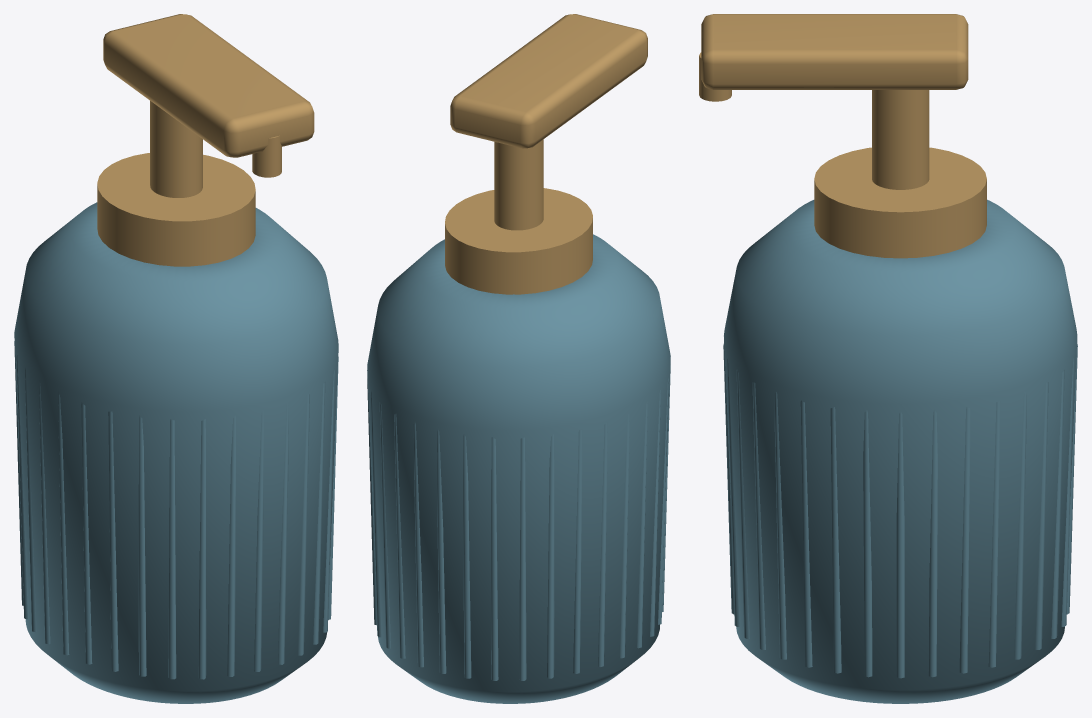
Rendered from bath-soap-pump.glb.
3 renders of one model, left to right at view 1: azimuth 30°, elevation 25°; view 2: azimuth 150°, elevation 25°; view 3: azimuth 270°, elevation 25°, orthographic. The views are drawn at different scales.
Parts seen in each view (by area): view 1: catalog_surface_RealismUV; view 2: catalog_surface_RealismUV; view 3: catalog_surface_RealismUV.
Part boxes in pixels (x1=…): catalog_surface_RealismUV: x1=14, y1=14, x2=338, y2=703; catalog_surface_RealismUV: x1=367, y1=14, x2=670, y2=703; catalog_surface_RealismUV: x1=699, y1=14, x2=1077, y2=703.
Size of the model in its own units: 0.09 by 0.19 by 0.105.
